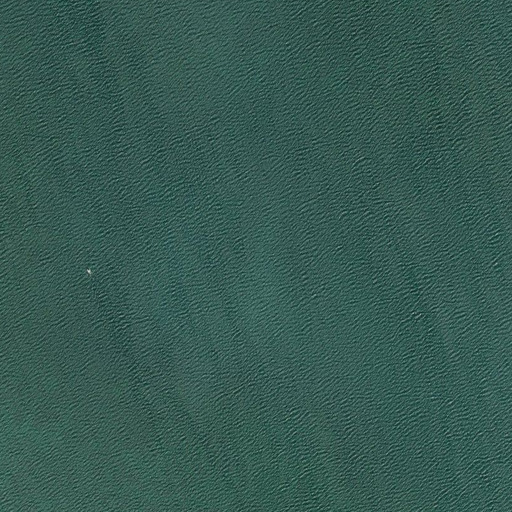ship: (87, 269, 91, 274)
